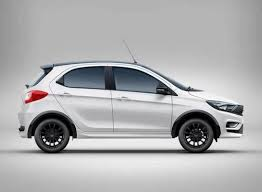Tiago: (14, 57, 246, 156)
